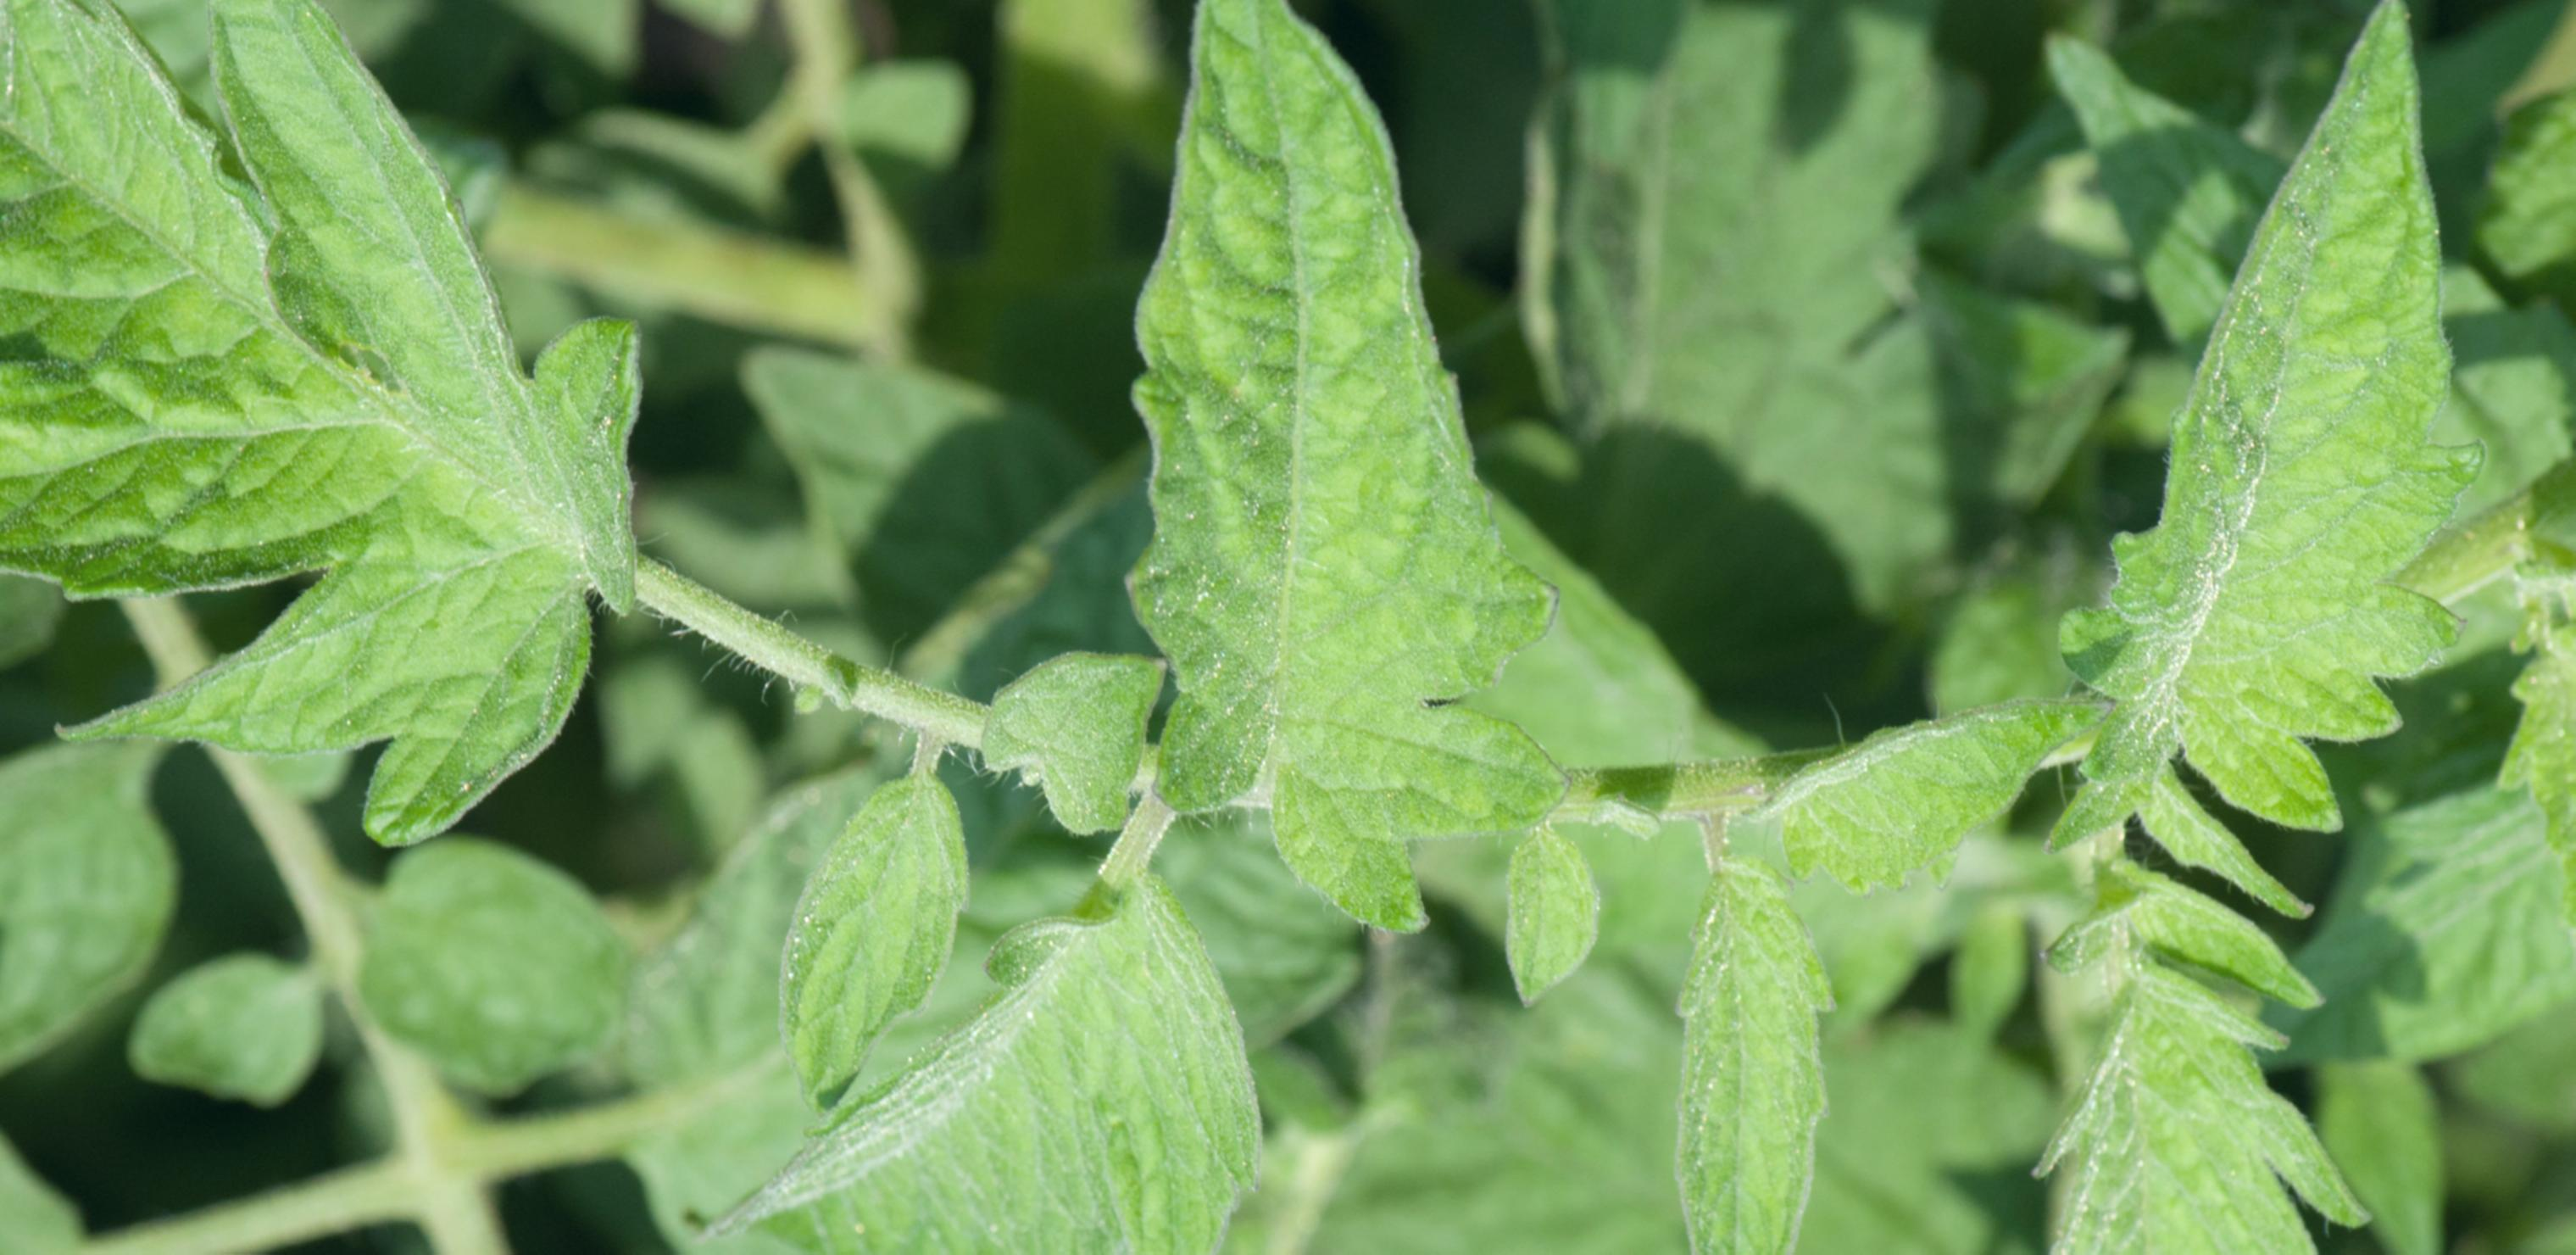Tomato leaf: (0, 0, 871, 767), (1993, 0, 2576, 916), (1132, 0, 1622, 968), (676, 767, 1302, 1255)
